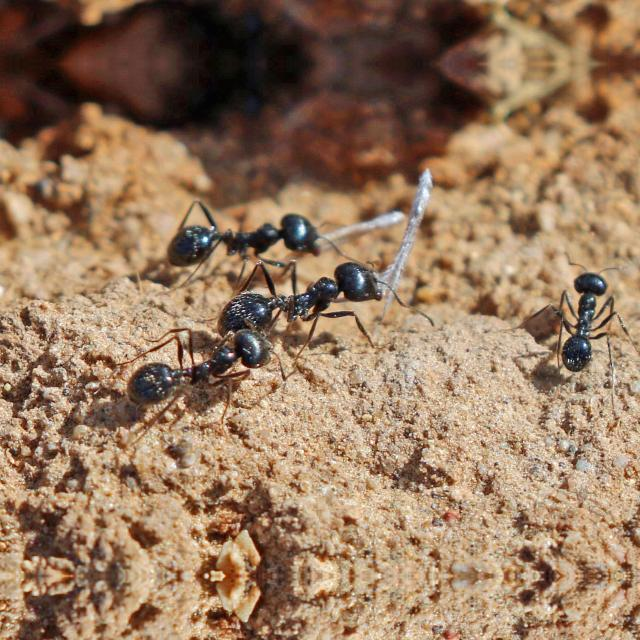Messor: (106, 299, 292, 417), (210, 263, 396, 347), (163, 197, 325, 279), (540, 256, 630, 382)
